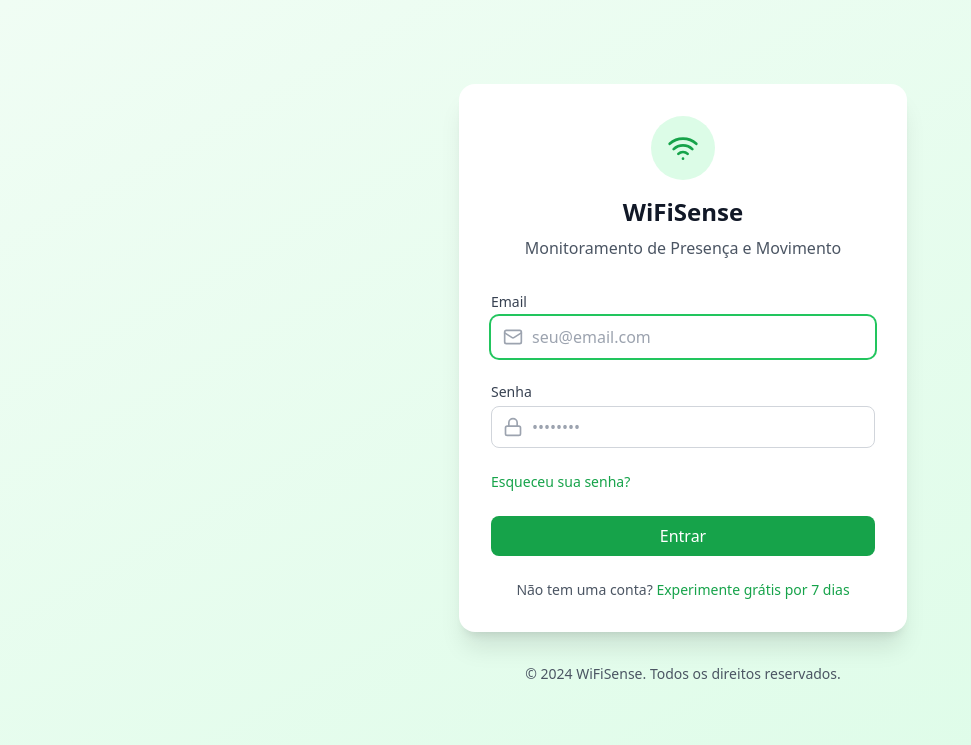
LoginPage › deve exibir erro de conta suspensa
Step 1. Type "suspended@test.com" into the field labelled "Email" → [683, 337], box [491,316,875,358]
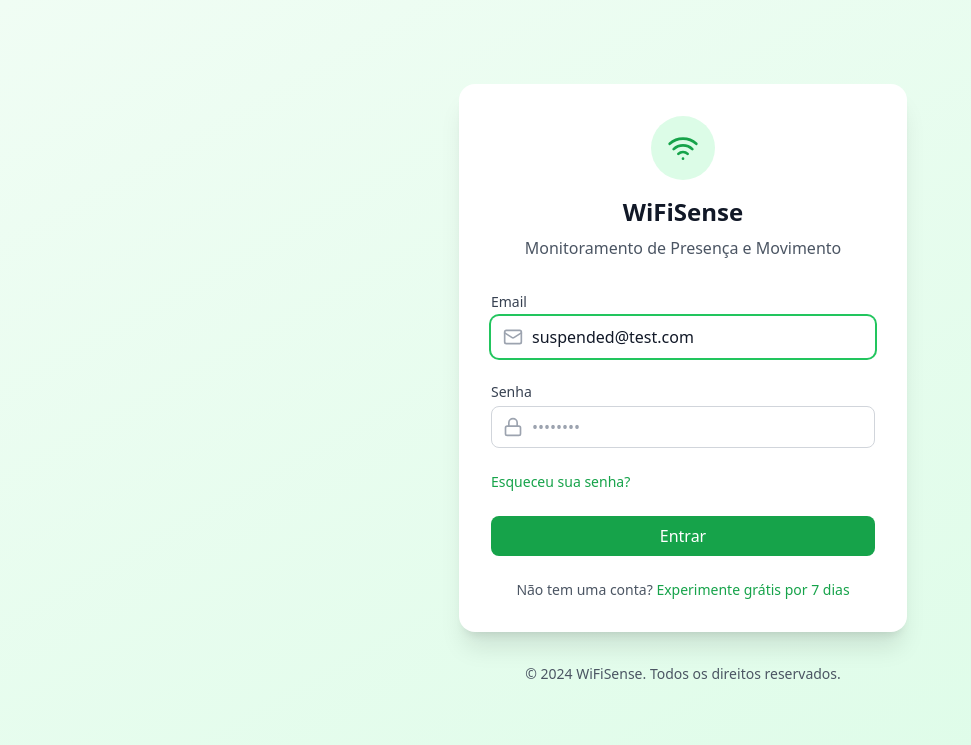
Step 2. Type "password123" into the password field labelled "Senha" → [683, 427], box [491,406,875,448]
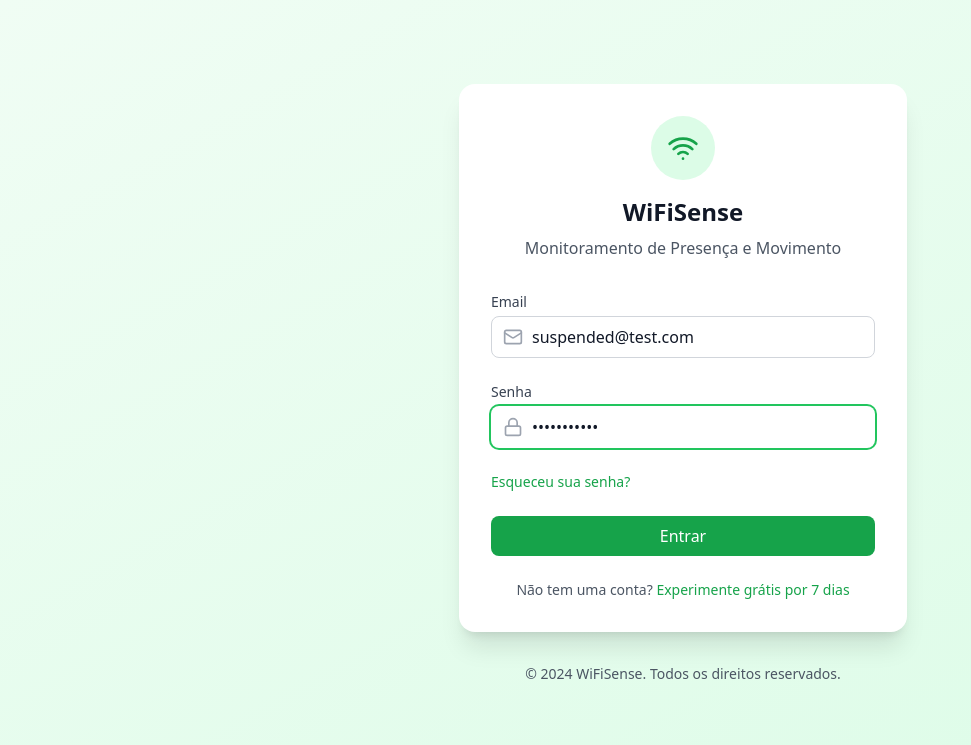
Step 3. Click the button "Entrar" → [683, 536], box [491,516,875,556]
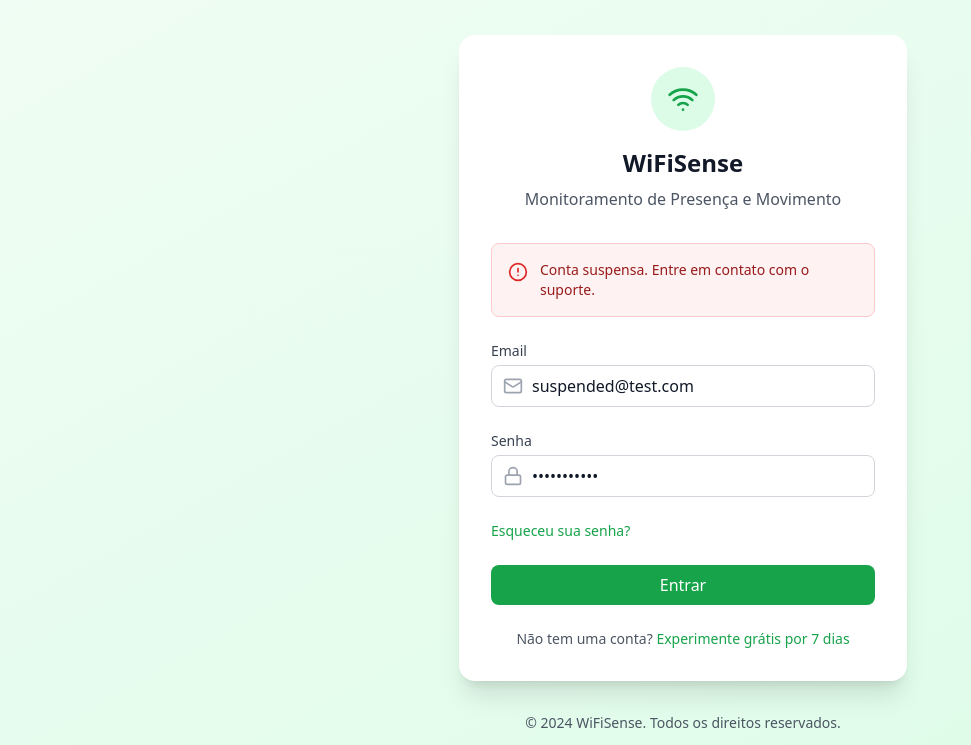
Result: the text "Conta suspensa. Entre em contato com o suporte." is shown at [540,260,809,299]
